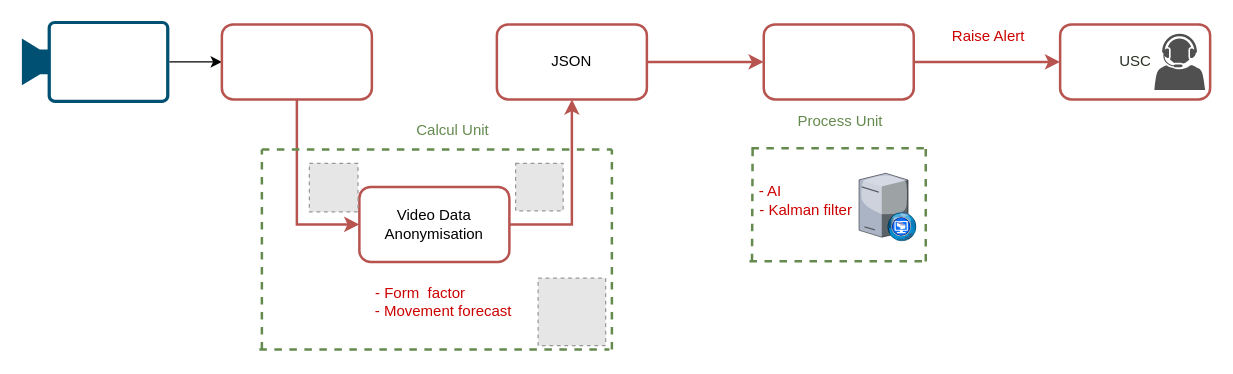
The diagram is 1233 pixels wide and 374 high, and some of its shapes have lost their labels. Grey dashed boxes stand in for pictures. The shapes that lost their labels are listed below. From the top down, each one's centre as x and y in pixels, then its label:
At [296,61]: "YOLO.V7".
At [838,61]: "PROCESSING".
